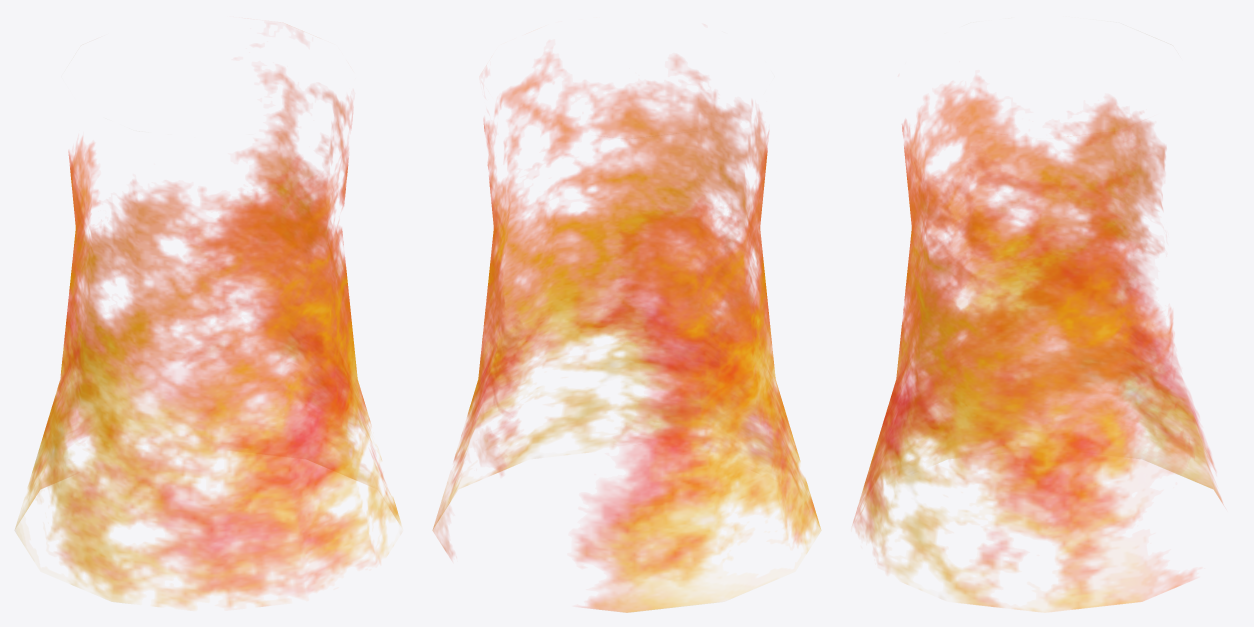
Rendered from dk_pillarof_fire_cylinder01-677ab306.glb.
3 views of the same model, side by side, from view 1: azimuth 30°, elevation 25°; view 2: azimuth 150°, elevation 25°; view 3: azimuth 270°, elevation 25° (orthographic).
Visible parts, largest first — view 1: dk_pillarof_fire_Cylinder01; view 2: dk_pillarof_fire_Cylinder01; view 3: dk_pillarof_fire_Cylinder01.
Part boxes in pixels (x1,y1,x2,y2): dk_pillarof_fire_Cylinder01: (14, 71, 402, 606); dk_pillarof_fire_Cylinder01: (432, 53, 821, 612); dk_pillarof_fire_Cylinder01: (853, 78, 1222, 611).
Bounding box in the file's own units: 3.88 × 5 × 3.88.
Materials: 1 (1 with a texture image).
